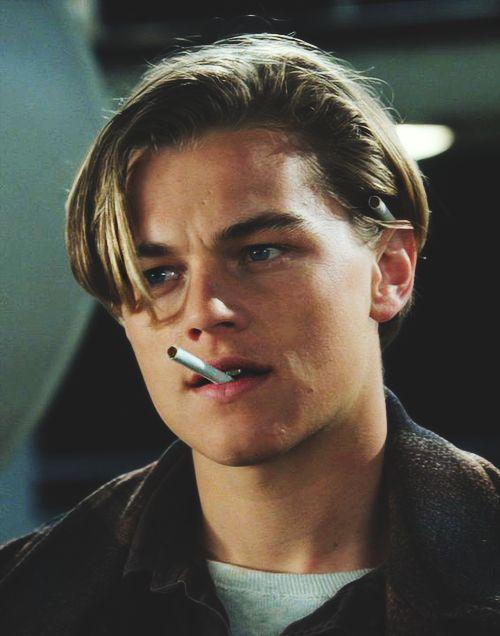cigarette: (166, 346, 235, 384)
